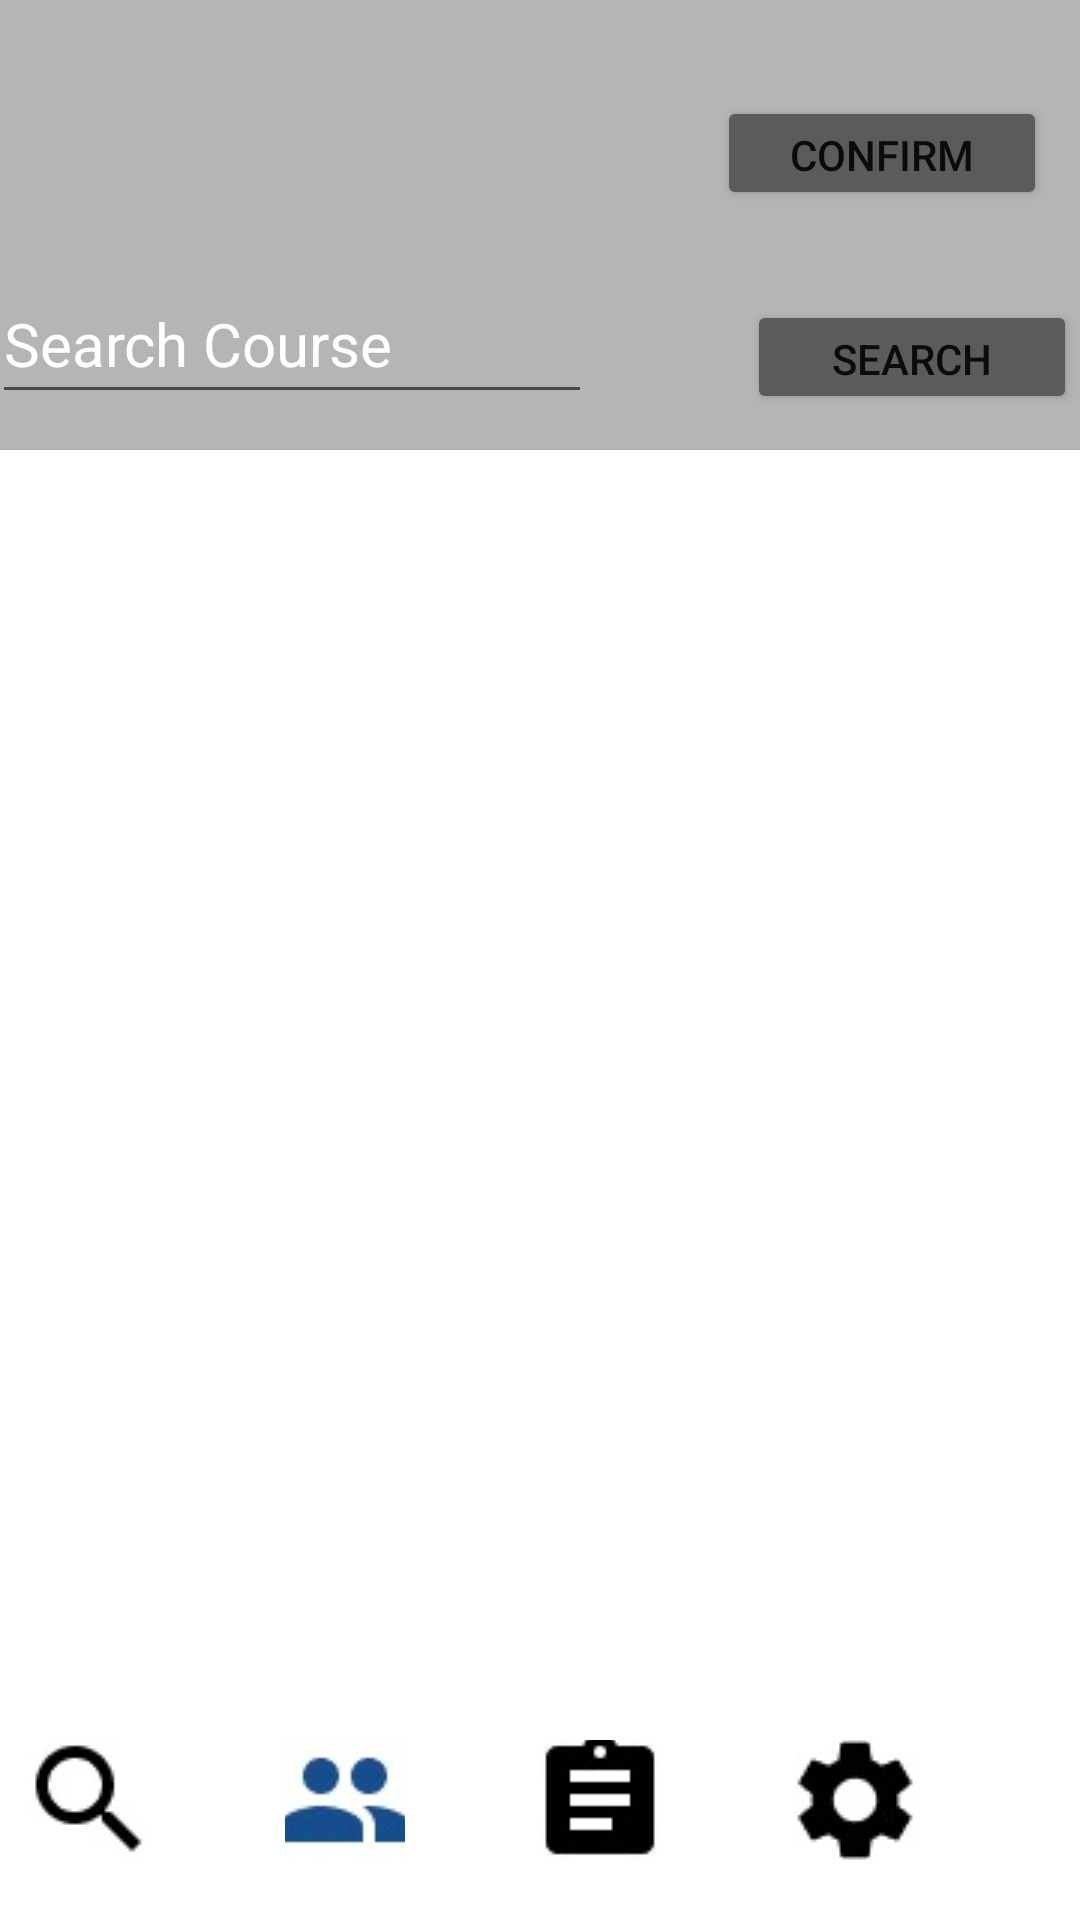

Locate icon controls on the screen. Image size 1080w x 1920h, boxes as (x1, y1, x2, y2).
course list: (545, 1740, 655, 1855)
people: (285, 1757, 405, 1843)
search: (35, 1745, 142, 1852)
setting: (797, 1740, 913, 1860)
